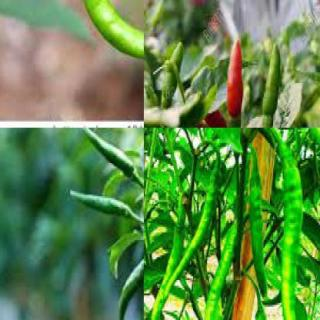green_chilli: (159, 152, 224, 312), (274, 150, 319, 319), (146, 192, 189, 320), (76, 0, 143, 65), (202, 221, 241, 319), (248, 154, 270, 303), (78, 128, 137, 183), (69, 188, 132, 225), (158, 38, 187, 112), (261, 41, 283, 128), (116, 257, 143, 319), (307, 129, 319, 182)
